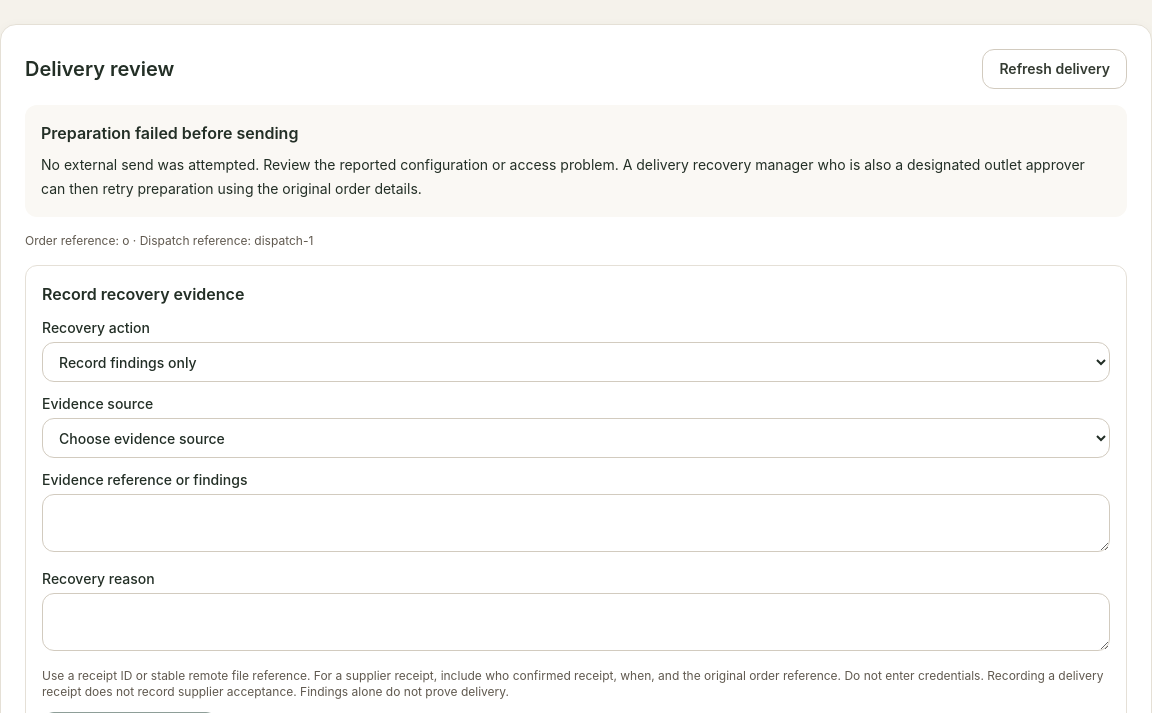
Test case: preparation failure offers a configuration retry while transport acceptance remains separate from supplier confirmation
Check: the heading "Preparation failed before sending" is shown, box [41,123,298,143]
Select "Retry preparation" in the dropdown labelled "Recovery action" at {"x": 576, "y": 362}, box [42,342,1110,382]
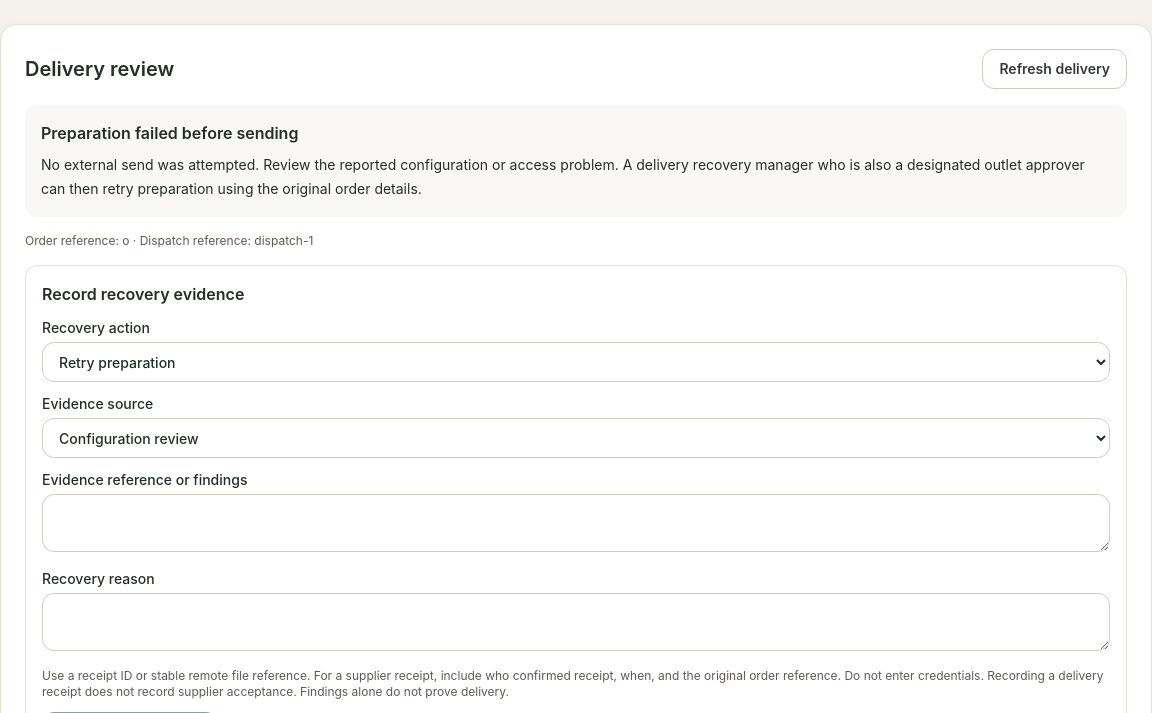
Check: the dropdown labelled "Evidence source" shows "Configuration review", box [42,418,1110,458]
Click the button "Refresh delivery" at {"x": 1055, "y": 69}, box [982,49,1127,89]
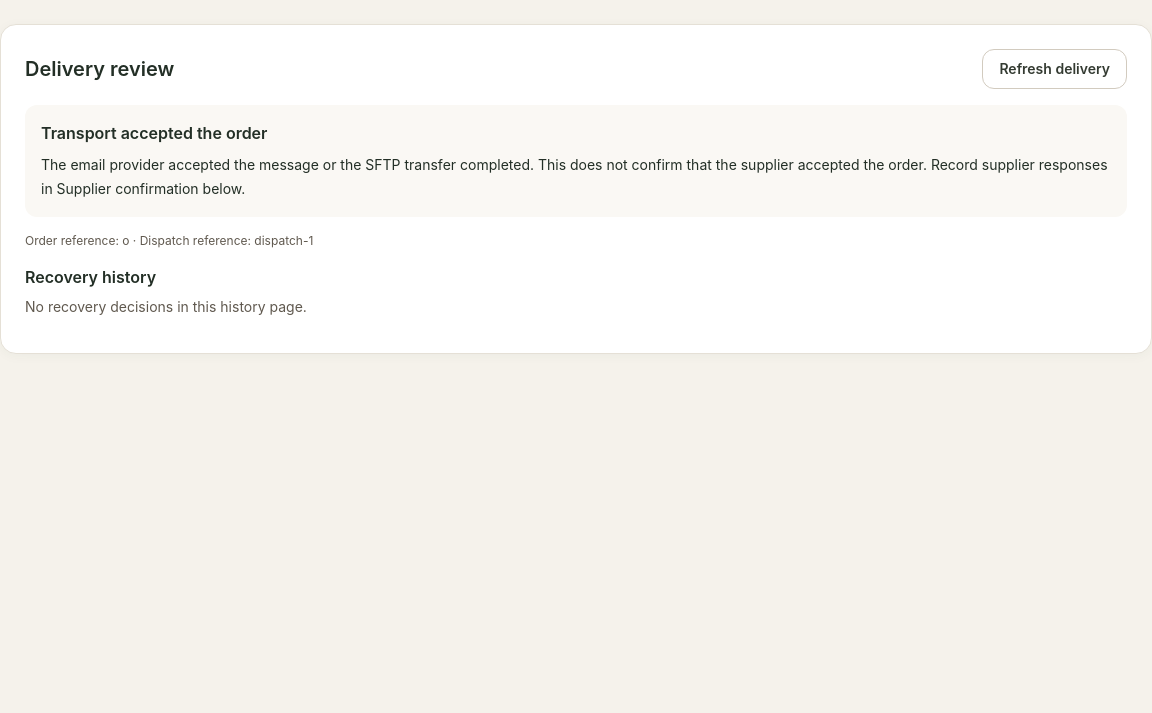
Check: the heading "Transport accepted the order" is shown, box [41,123,267,143]
Check: the text "This does not confirm that the supplier accepted the order" is shown, box [41,156,1108,197]
